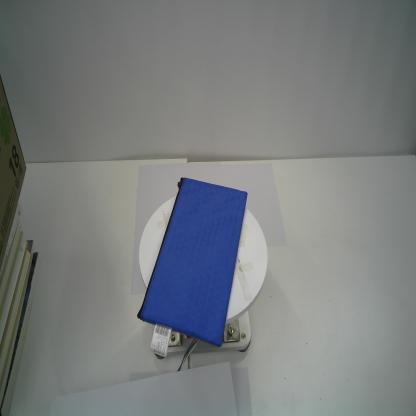Stationery: (135, 174, 249, 361)
